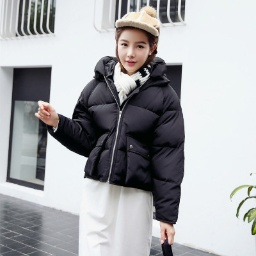face: (112, 19, 164, 81)
